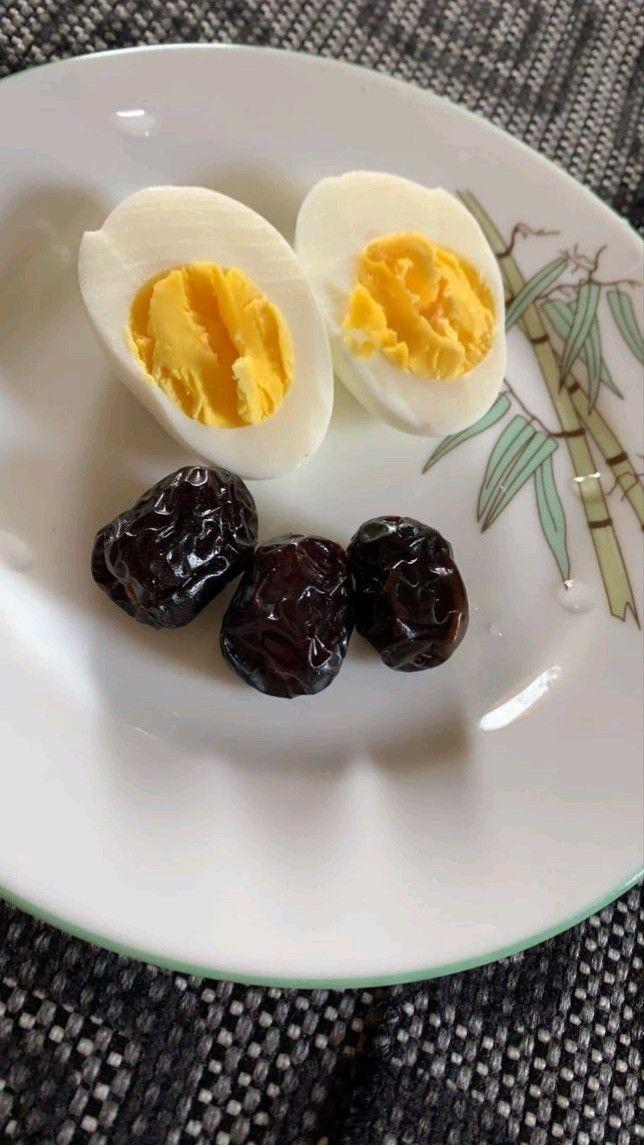eggs: (57, 136, 514, 445)
